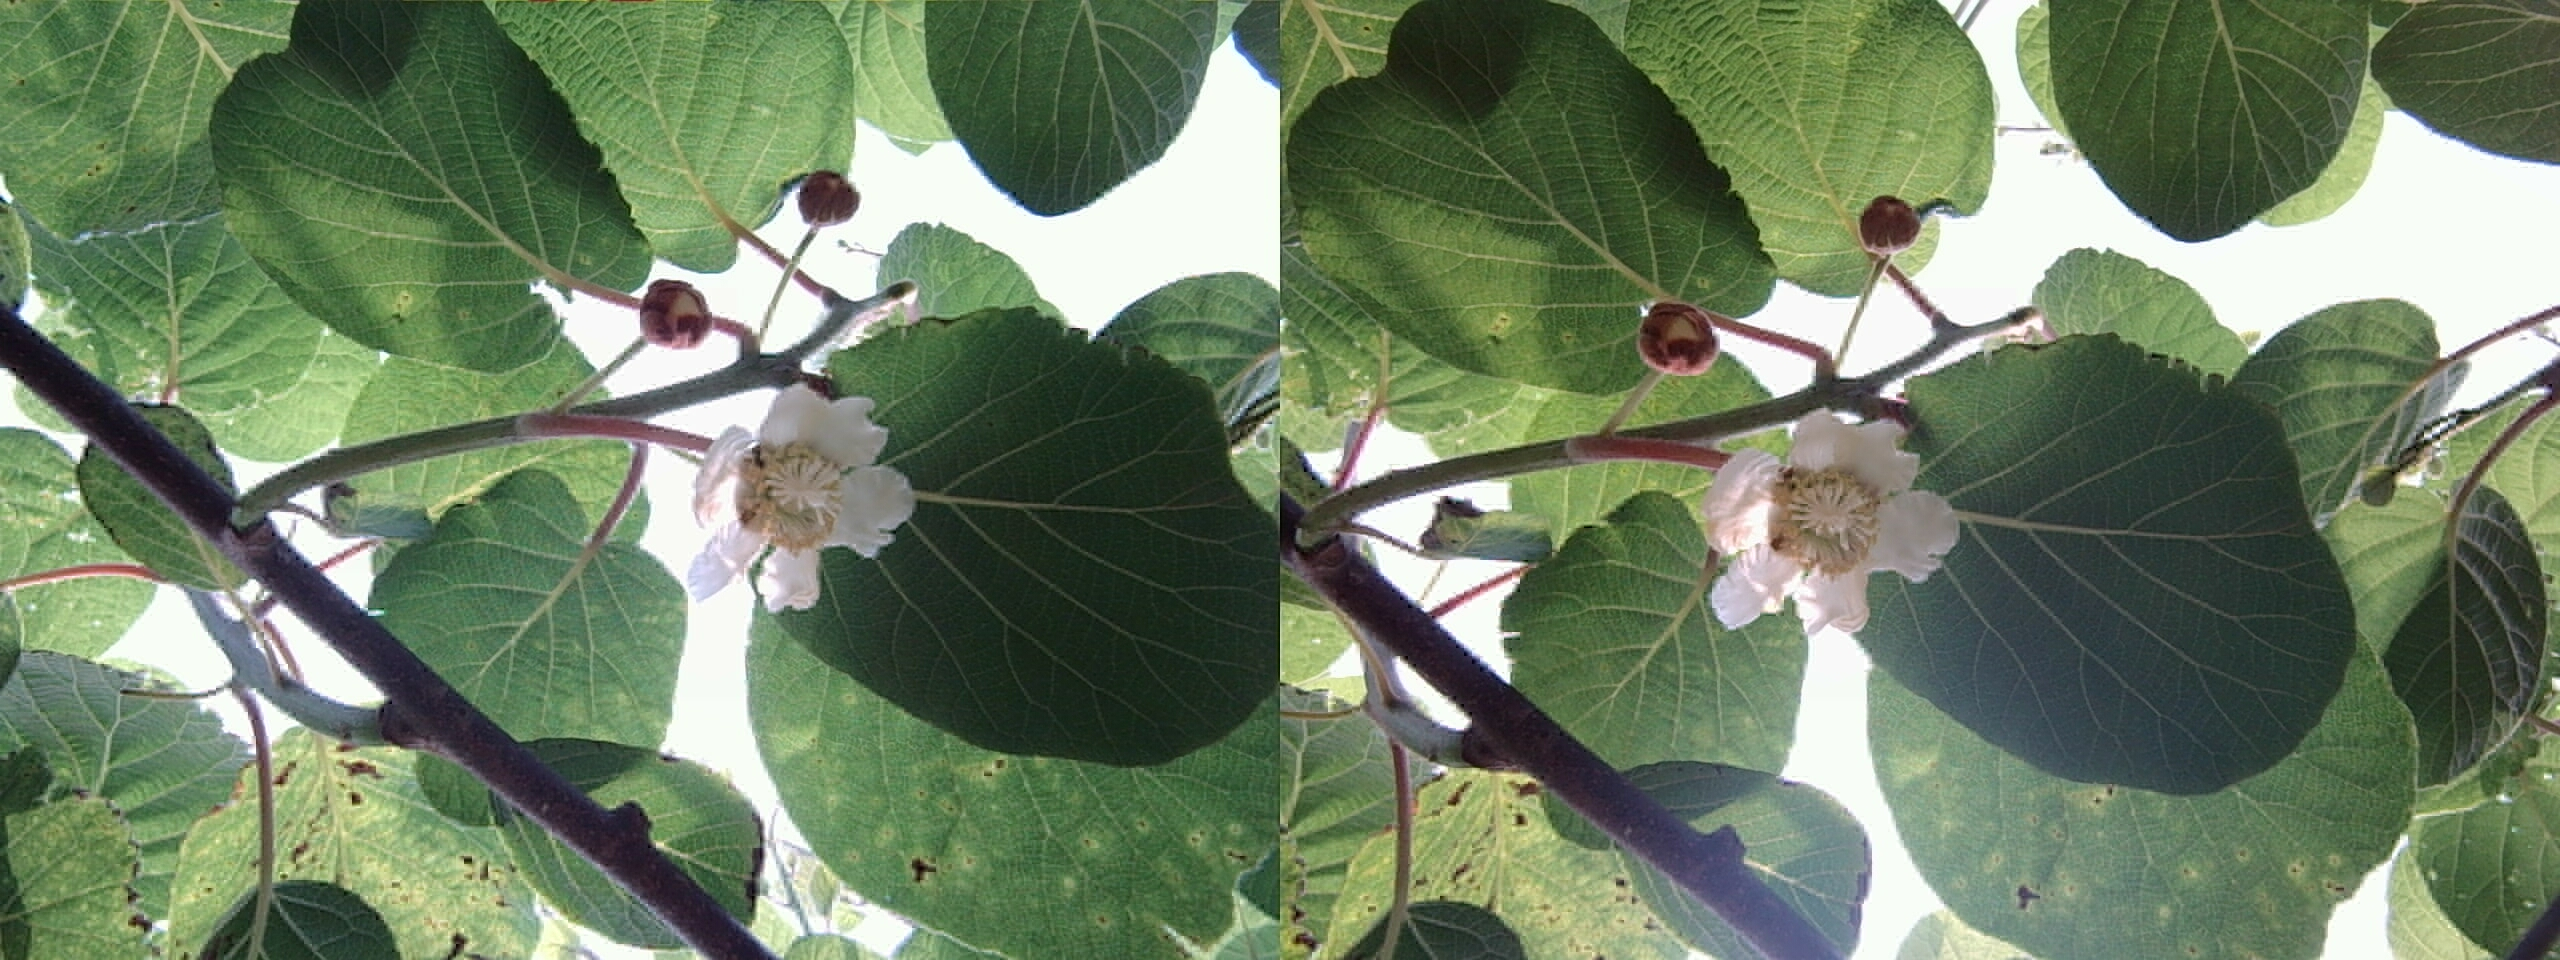flower: (1696, 410, 1949, 630), (674, 379, 914, 601)
